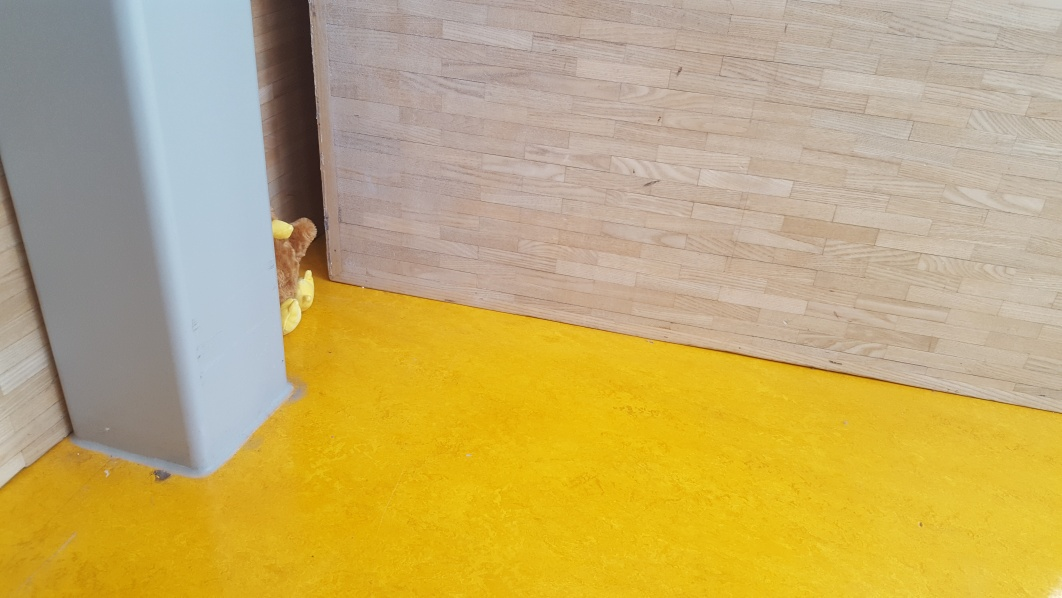chicken: (269, 200, 320, 344)
